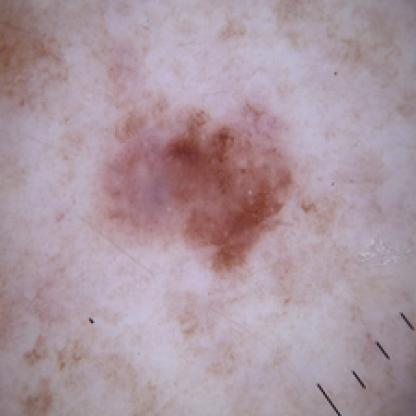benign: (100, 93, 303, 256)
